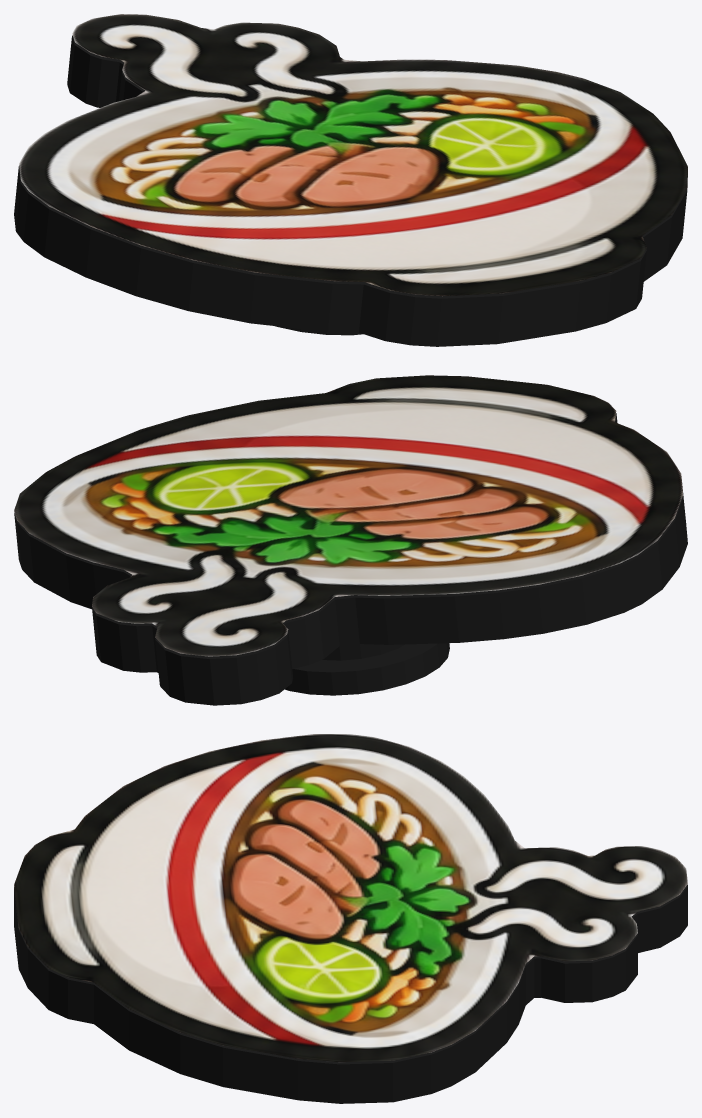
Rendered from food-pho.glb.
3 views of the same model, one above another, from view 1: azimuth 30°, elevation 25°; view 2: azimuth 150°, elevation 25°; view 3: azimuth 270°, elevation 25° (orthographic). The views are drawn at different scales.
Visible parts, largest first — view 1: FOOD_Pho_MODEL; view 2: FOOD_Pho_MODEL; view 3: FOOD_Pho_MODEL.
Part boxes in pixels (x1,y1,x2,y2): FOOD_Pho_MODEL: (14, 14, 687, 346); FOOD_Pho_MODEL: (14, 375, 687, 705); FOOD_Pho_MODEL: (14, 734, 687, 1103).
Bounding box in the file's own units: 0.3526 × 0.1012 × 0.373.
Materials: 3 (1 with a texture image).
